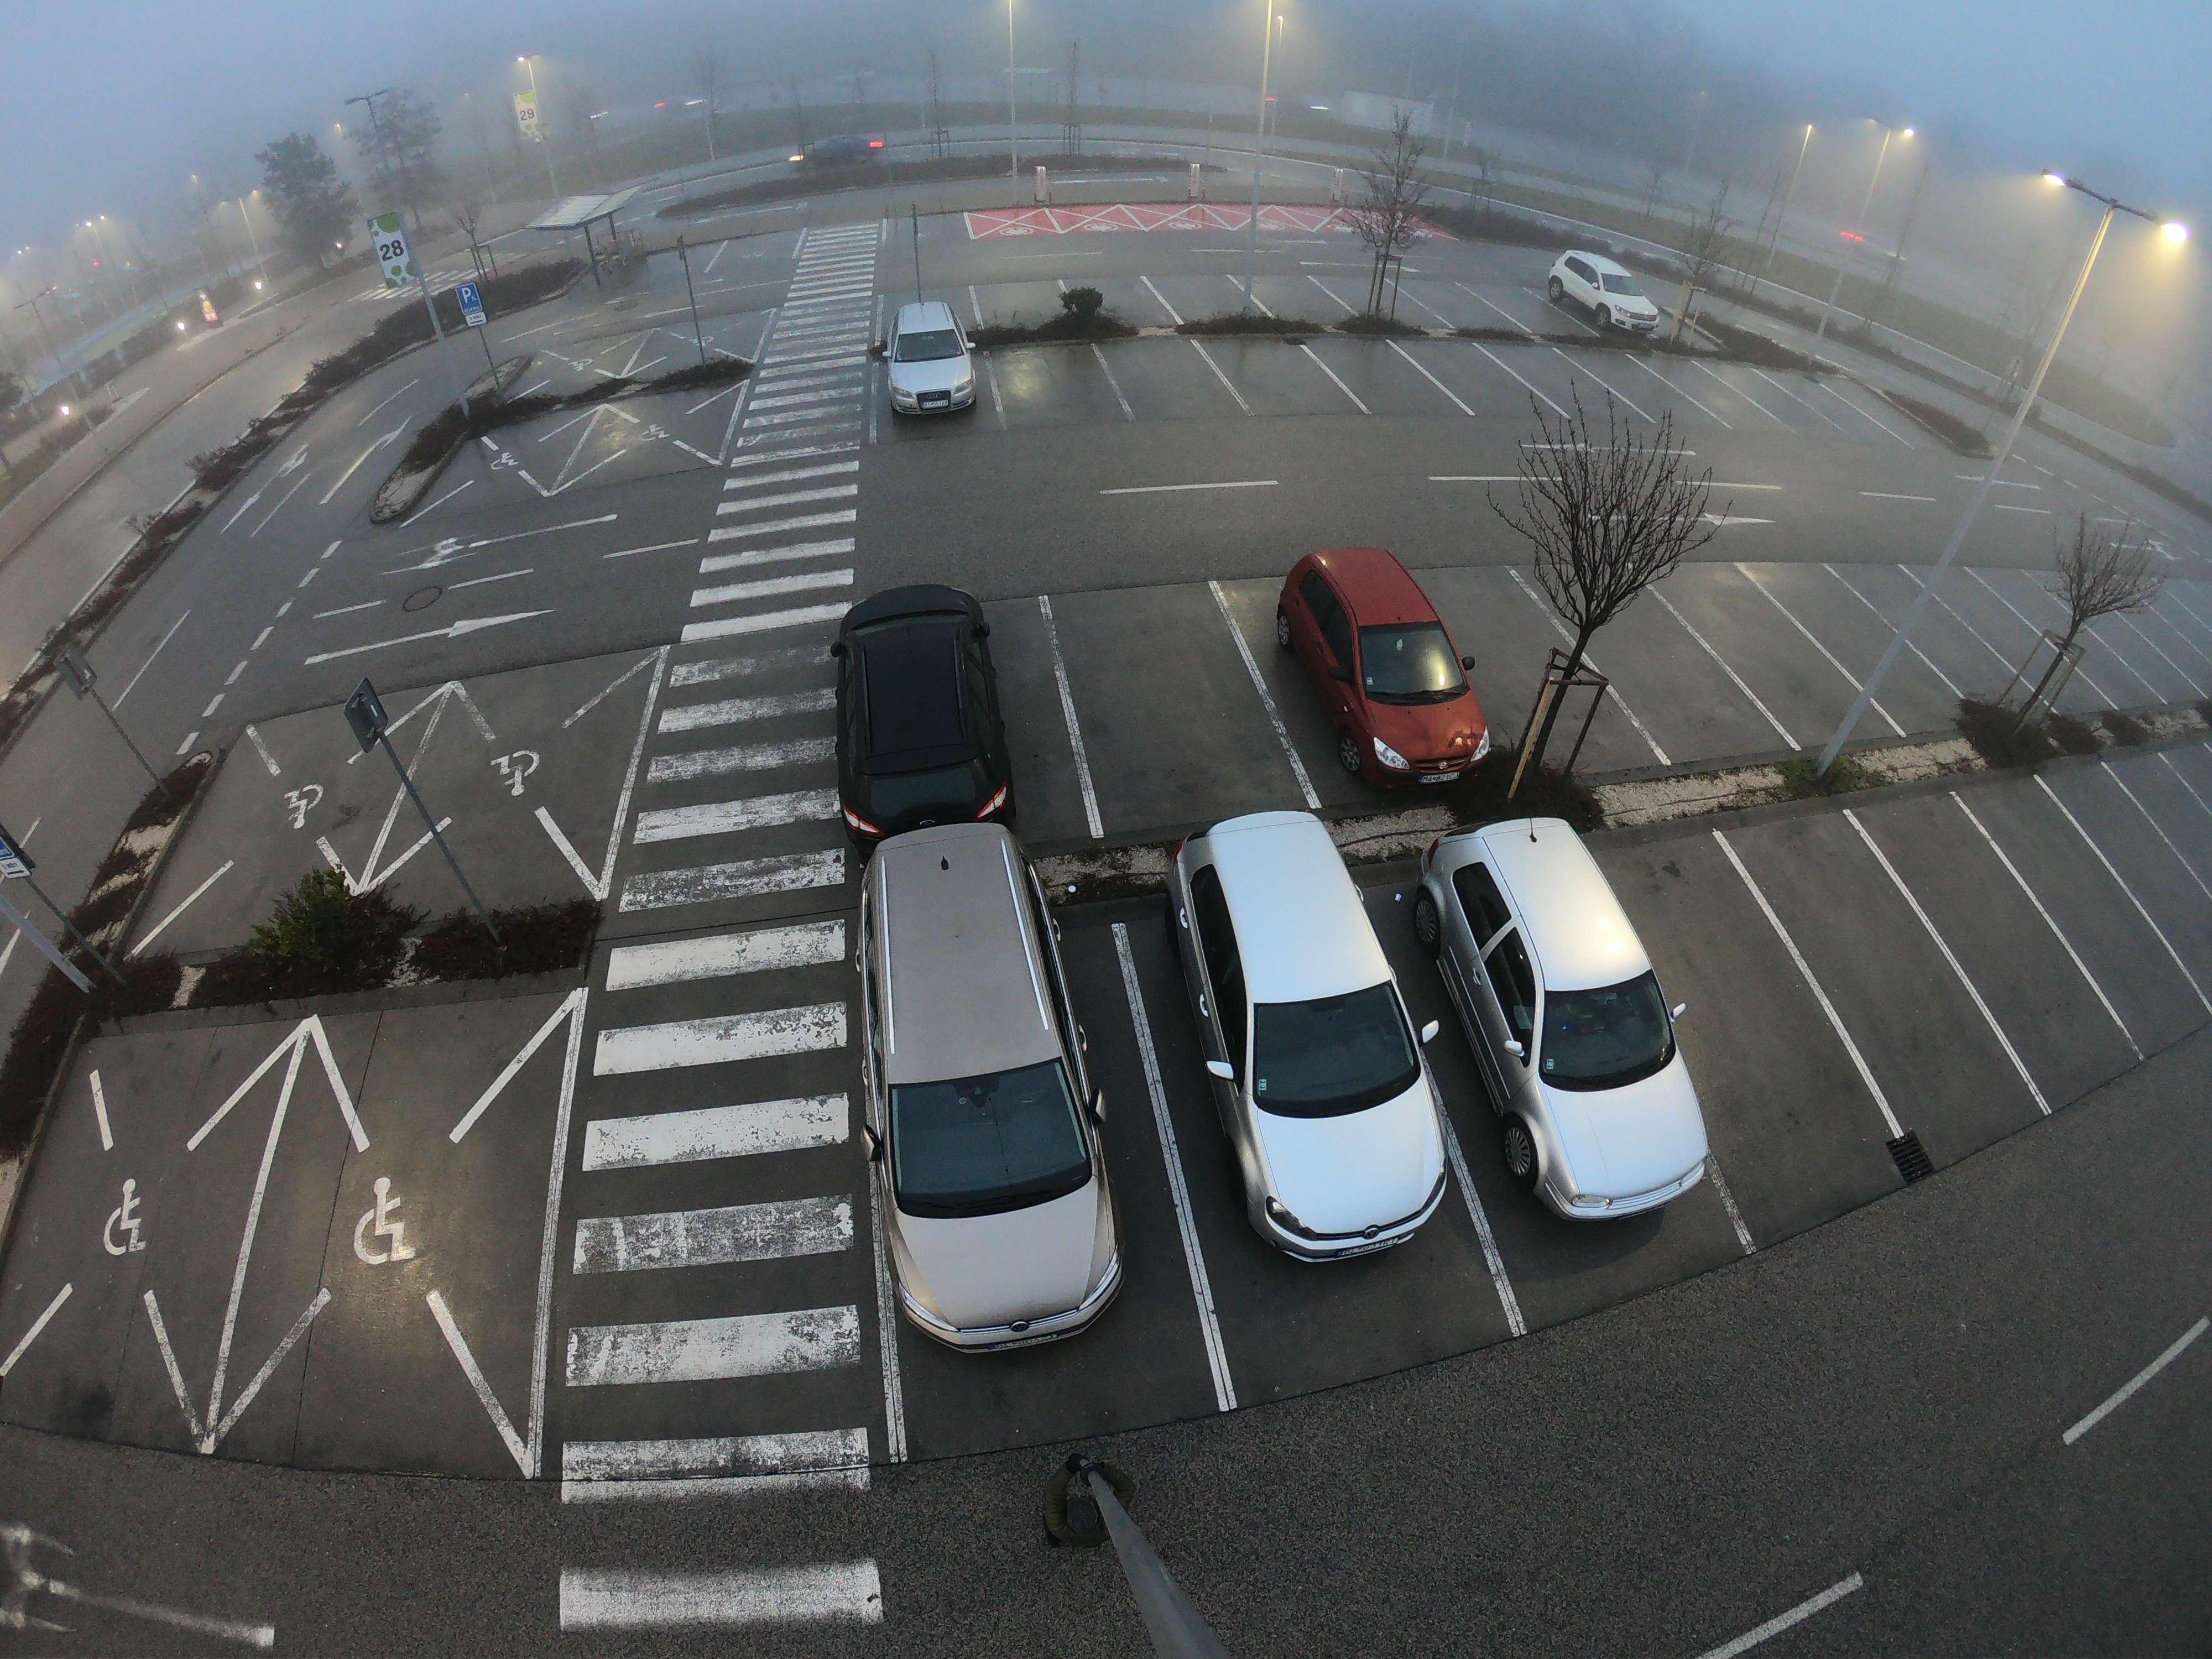empty: (840, 809, 1163, 1380), (1163, 809, 1496, 1281), (1440, 831, 1740, 1220), (827, 587, 1045, 852), (1266, 544, 1510, 777), (867, 293, 998, 436), (1548, 258, 1670, 343)
occupied: (1667, 932, 1799, 1107), (1087, 659, 1244, 775), (1818, 896, 1940, 1009), (1933, 868, 2033, 986), (1446, 579, 1552, 674), (1632, 650, 1728, 734), (1822, 580, 1888, 688), (2029, 842, 2114, 925), (1005, 361, 1101, 422), (1905, 605, 1980, 678), (1120, 356, 1209, 413), (1721, 619, 1804, 680), (1538, 338, 1601, 411), (1609, 359, 1681, 420), (1237, 361, 1324, 410), (1355, 357, 1426, 401), (1176, 279, 1245, 322), (1453, 366, 1519, 404), (1268, 286, 1331, 319), (1104, 288, 1158, 324)
